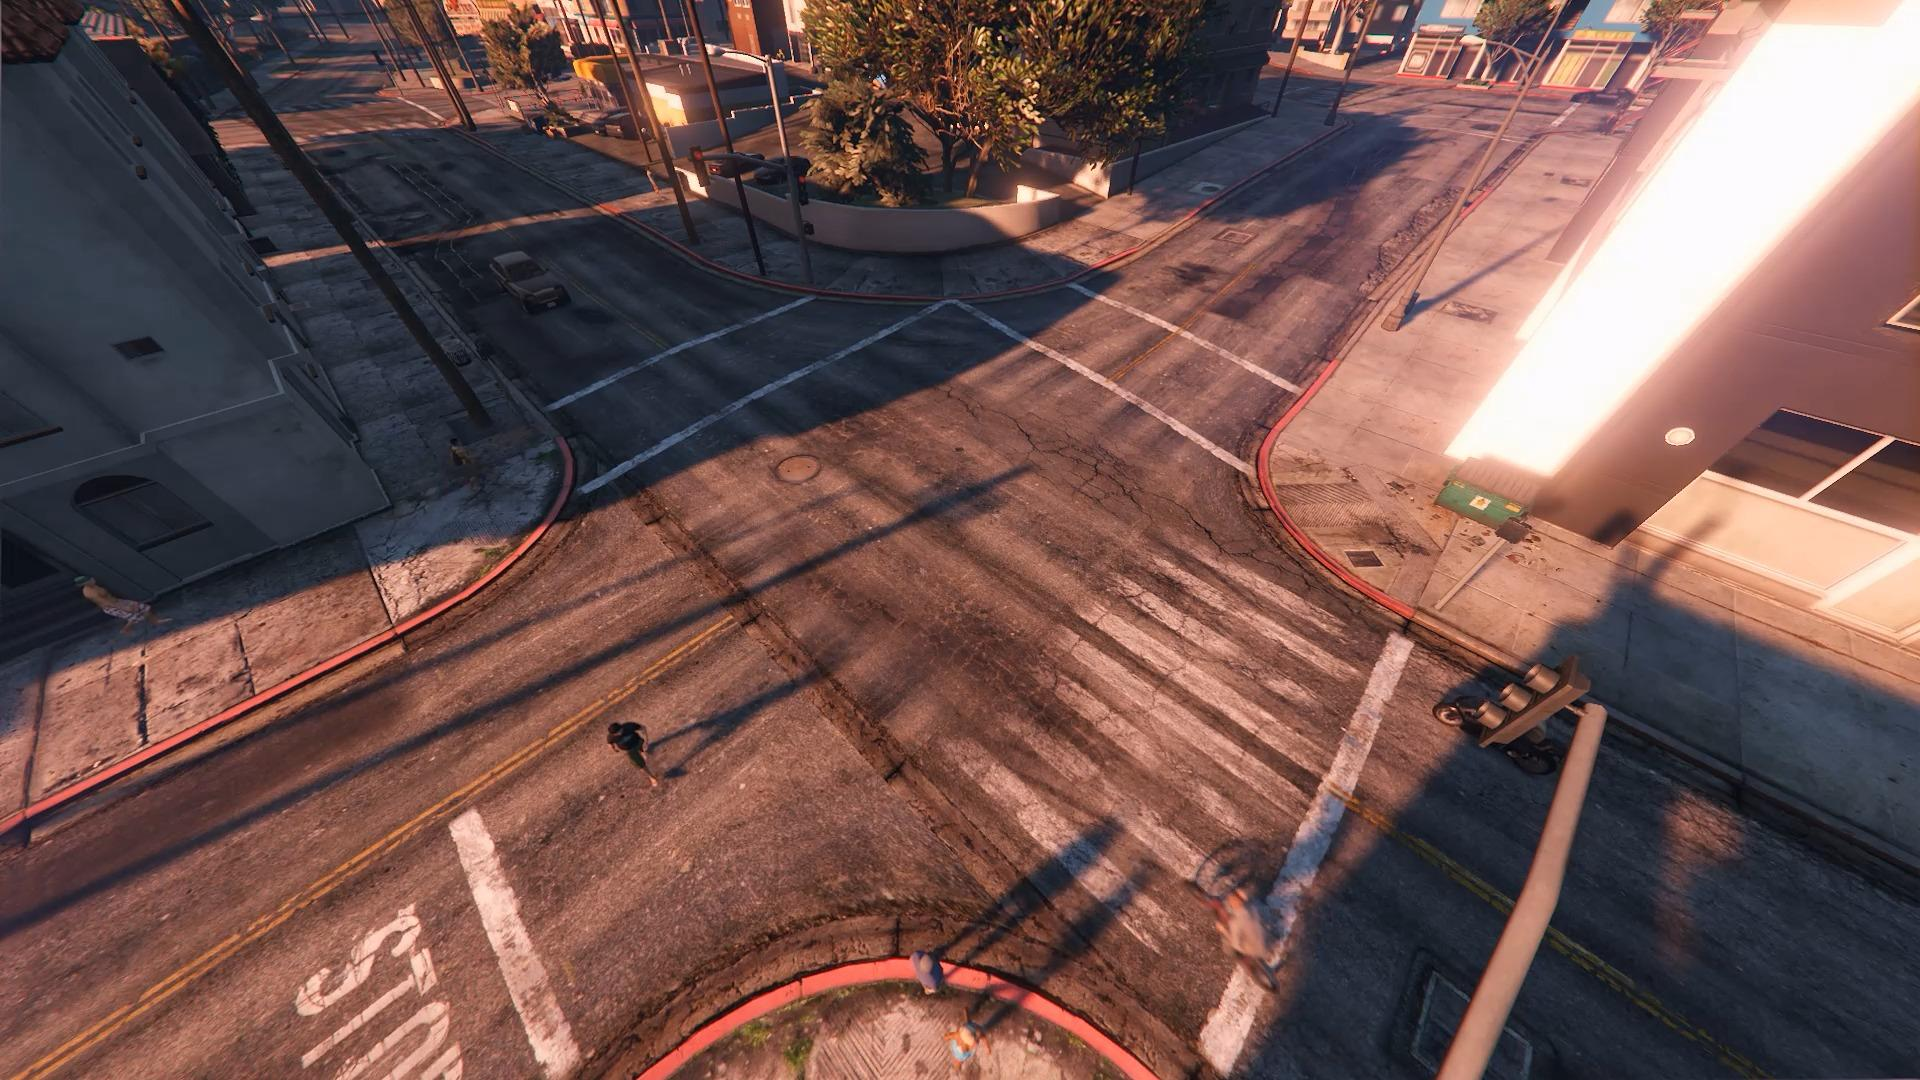car: (1429, 688, 1568, 778), (489, 249, 568, 314)
